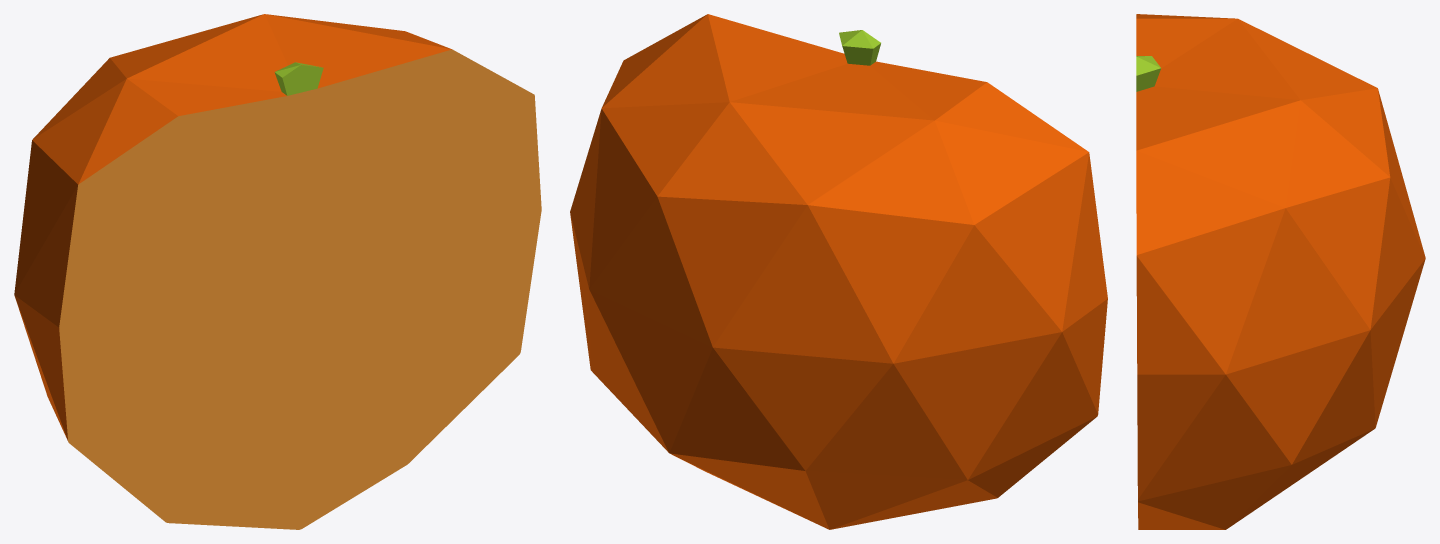
The model's file is OrangeHalf1.fbx.
3 views of the same model, side by side, from view 1: azimuth 30°, elevation 25°; view 2: azimuth 150°, elevation 25°; view 3: azimuth 270°, elevation 25° (orthographic). The views are drawn at different scales.
Parts seen in each view (by area): view 1: OrangeHalf1; view 2: OrangeHalf1; view 3: OrangeHalf1.
Boxes of the visible parts, box(x1,y1,x2,y2) form: OrangeHalf1: box(14, 14, 541, 529); OrangeHalf1: box(570, 14, 1107, 529); OrangeHalf1: box(1136, 14, 1425, 529).
Size of the model in its own units: 194 by 179 by 102.
